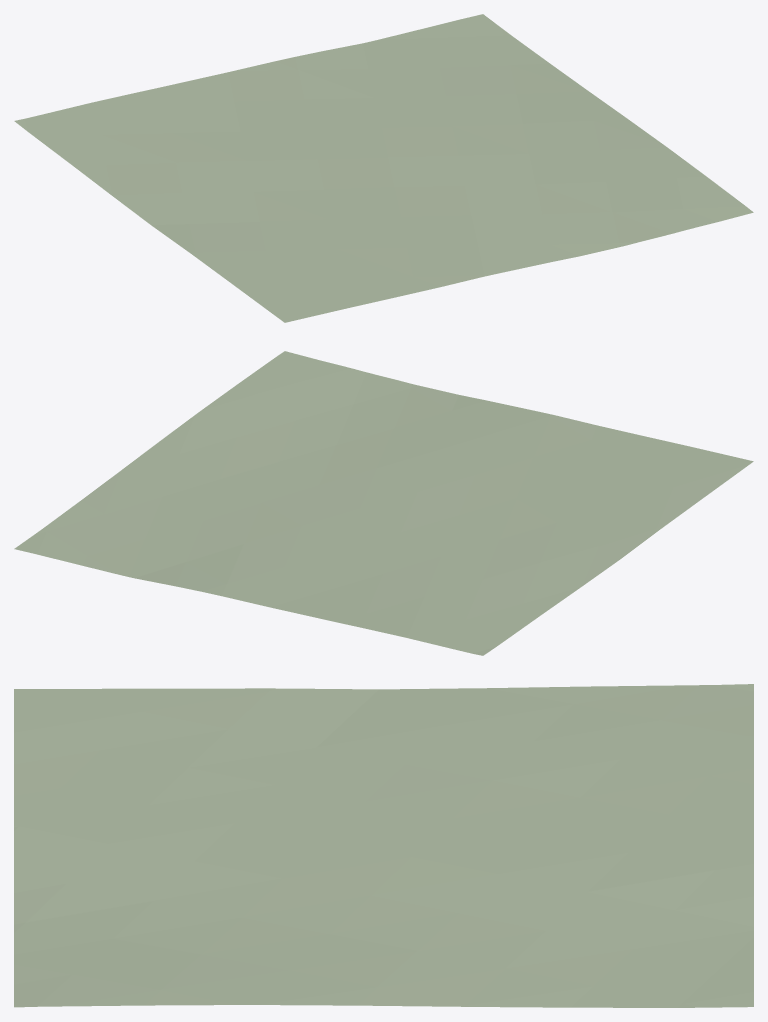
File: SM_MPRR_Terrain_-2_3.fbx
3 views of the same model, one above another, from view 1: azimuth 30°, elevation 25°; view 2: azimuth 150°, elevation 25°; view 3: azimuth 270°, elevation 25° (orthographic). The views are drawn at different scales.
Visible parts, largest first — view 1: SM_MPRR_Terrain_-2_3; view 2: SM_MPRR_Terrain_-2_3; view 3: SM_MPRR_Terrain_-2_3.
Boxes of the visible parts, <box> form: SM_MPRR_Terrain_-2_3: <box>14,14,753,322</box>; SM_MPRR_Terrain_-2_3: <box>14,351,753,655</box>; SM_MPRR_Terrain_-2_3: <box>14,684,753,1007</box>.
Size of the model in its own units: 15000 by 15000 by 297.
